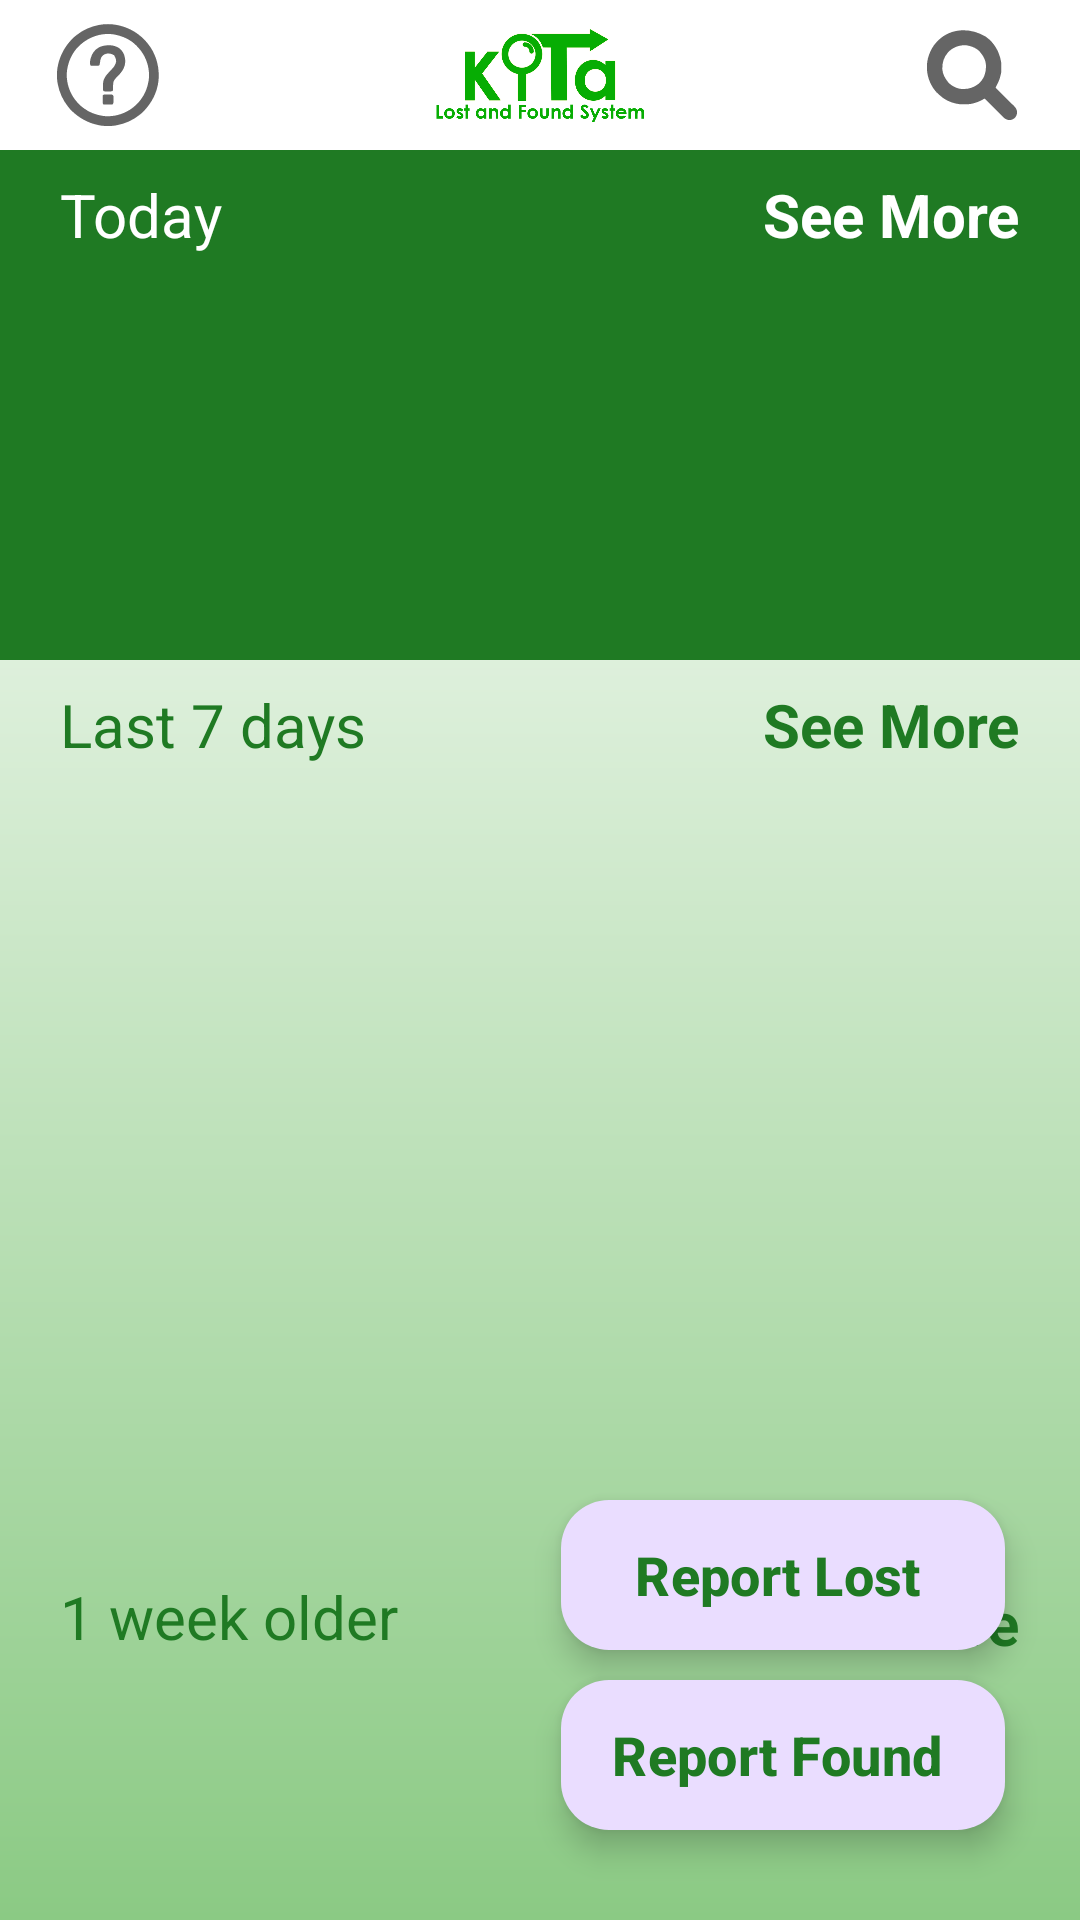

Screen size 1080 × 1920. Icon name, then its box in pixels as (x1,y1,x2,y2):
guide: (57,24,159,126)
search: (927,30,1017,120)
